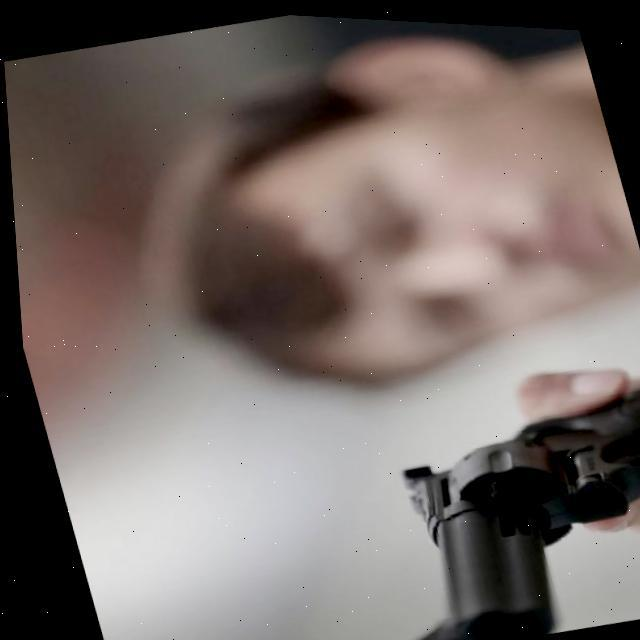gun: (345, 357, 640, 640)
